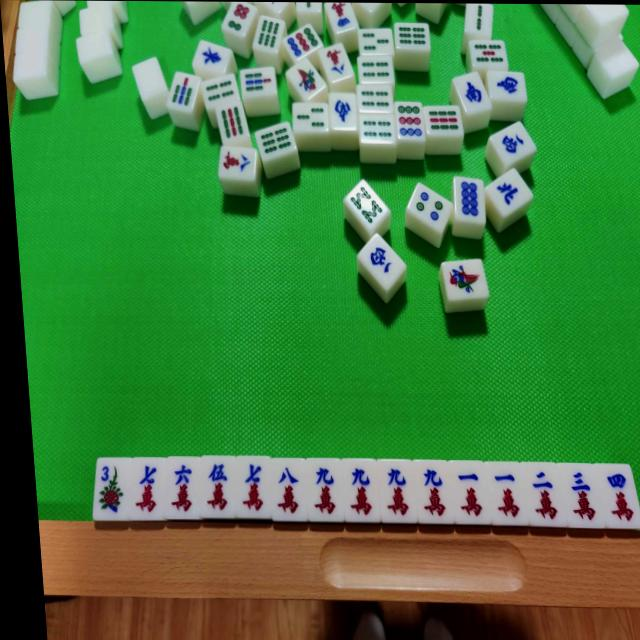f3: (96, 459, 131, 518)
m1: (487, 461, 528, 524), (450, 459, 490, 523)
m2: (524, 462, 566, 526)
m3: (562, 464, 604, 528)
m4: (600, 463, 640, 528)
m5: (201, 456, 237, 516)
m6: (166, 457, 204, 516)
m7: (130, 459, 168, 518), (235, 457, 272, 516)
m8: (270, 458, 307, 519)
m9: (413, 459, 454, 523), (377, 459, 417, 522), (341, 459, 380, 522), (306, 460, 343, 520)
